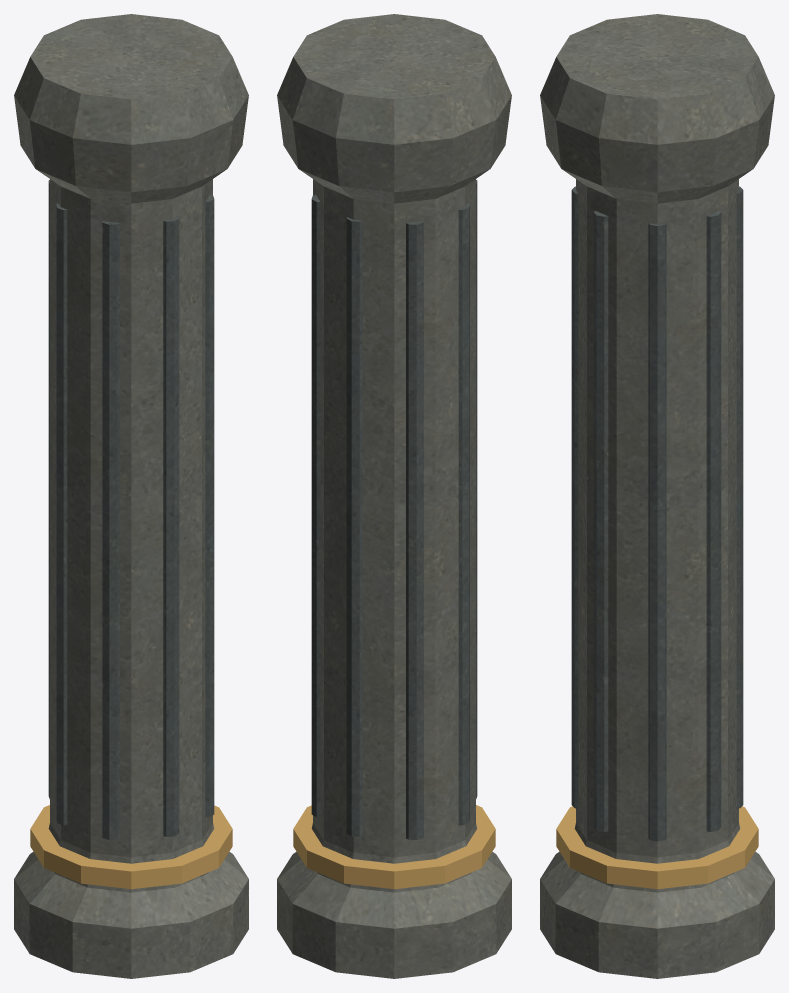
Rendered from source.glb.
3 views of the same model, side by side, from view 1: azimuth 30°, elevation 25°; view 2: azimuth 150°, elevation 25°; view 3: azimuth 270°, elevation 25° (orthographic).
Visible parts, largest first — view 1: body; view 2: body; view 3: body.
Boxes of the visible parts, left/top/right/bottom form: body: left=14, top=14, right=248, bottom=978; body: left=277, top=14, right=511, bottom=978; body: left=540, top=14, right=774, bottom=978.
Bounding box in the file's own units: 0.72 × 2.95 × 0.72.
3 materials, 2 textured.
